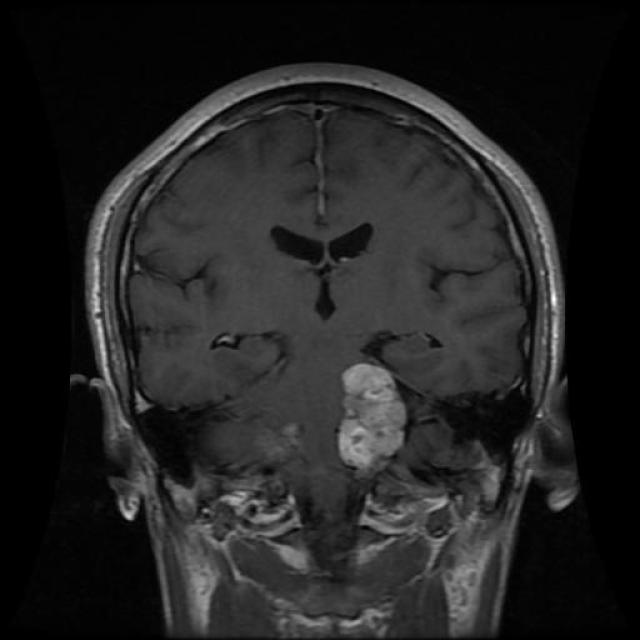meningioma: (339, 364, 408, 470)
